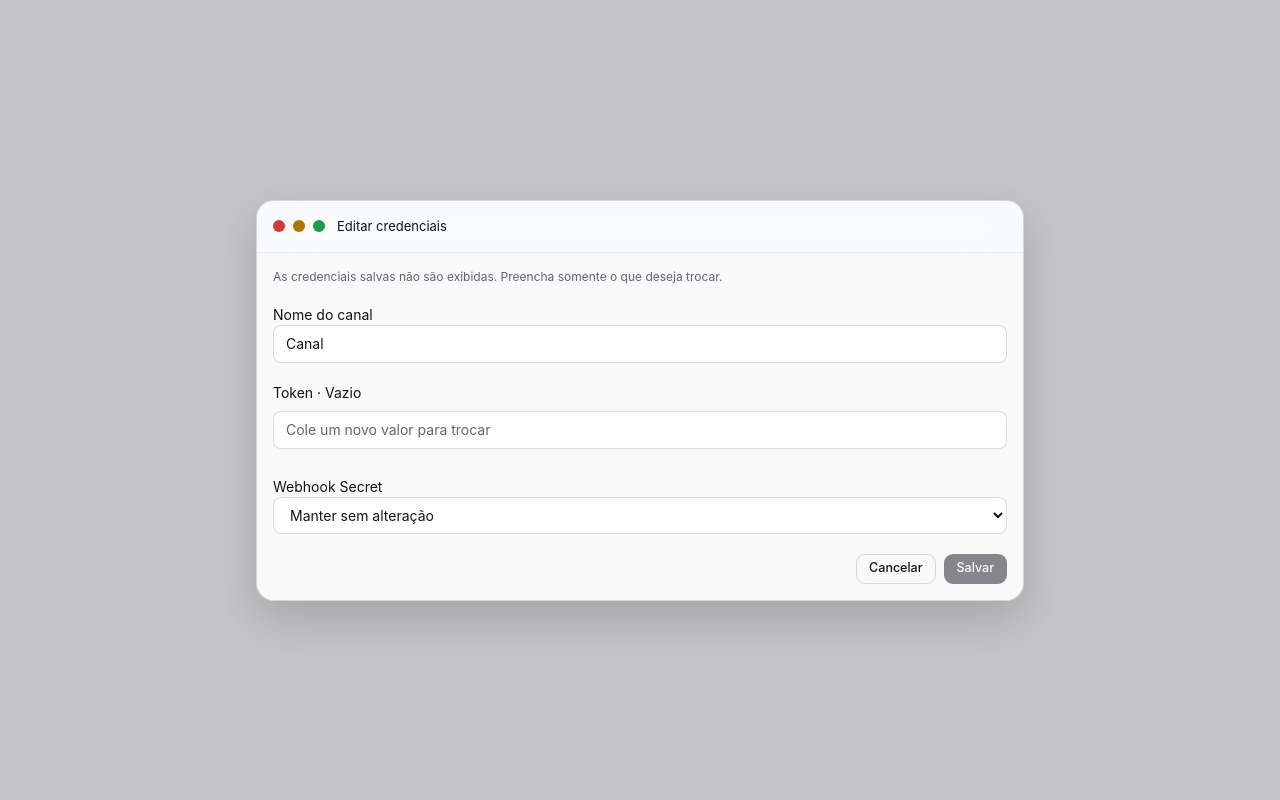
Test: PATCH de canal preserva credenciais omitidas › campo omitido aparece vazio e descartar edição não envia PATCH
Type "novo" into the password field labelled "Token · Vazio" at (640, 430), box [273,410,1007,448]
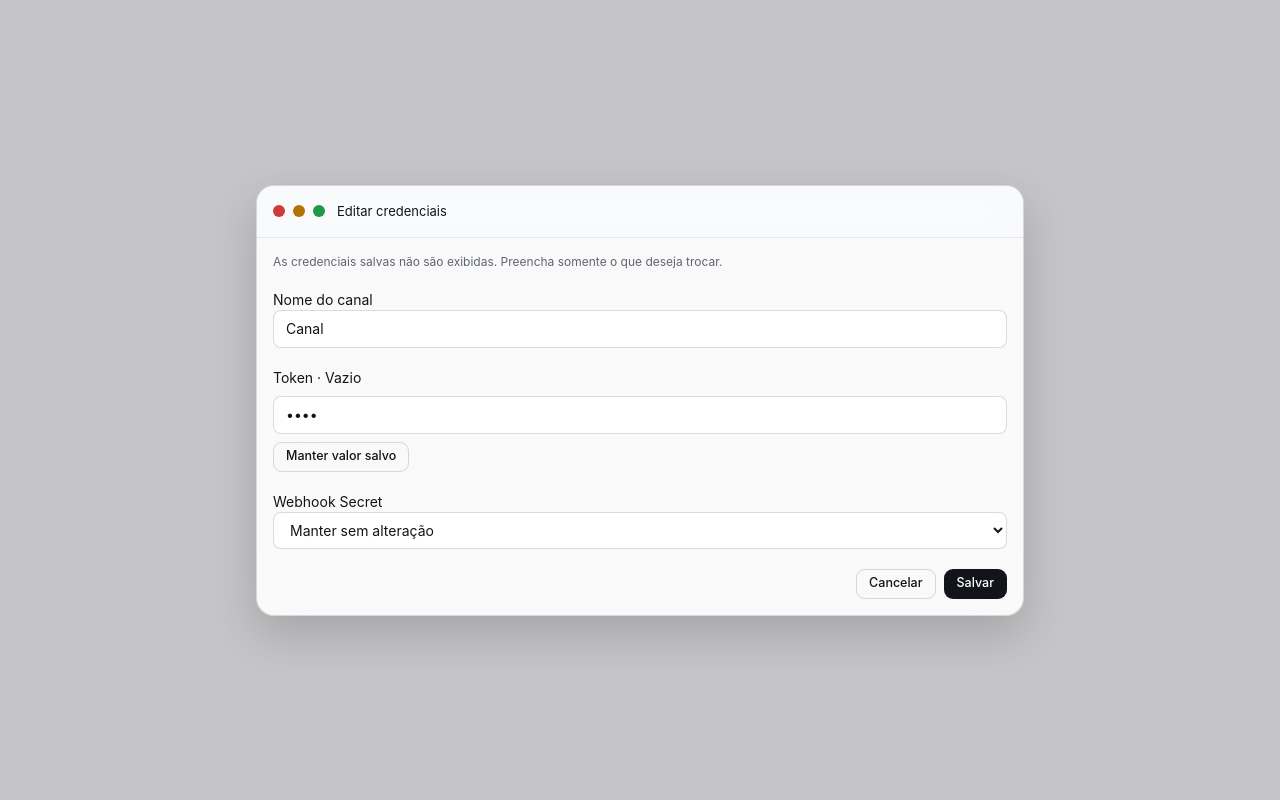
Click the button "Manter valor salvo" at (341, 456), box [273,442,409,472]
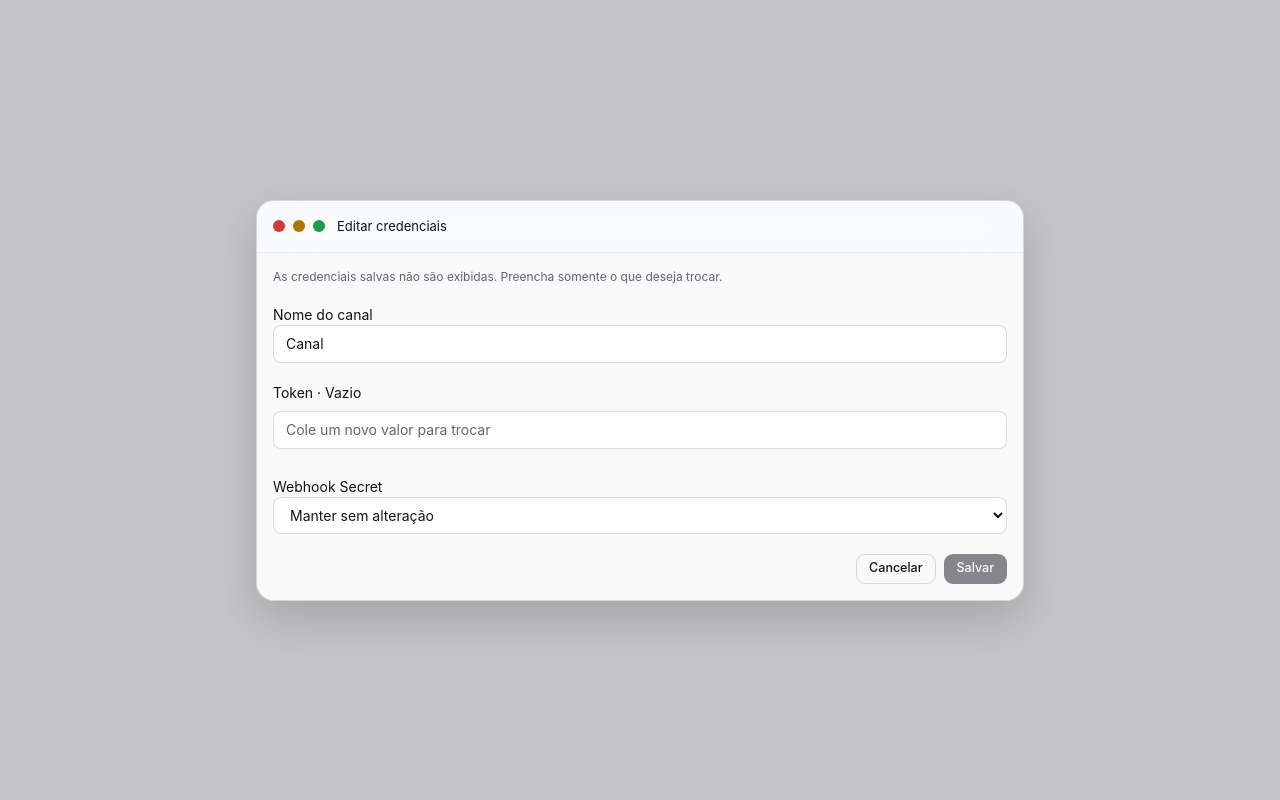
Now the button "Salvar" is disabled, box [944,554,1007,584]
